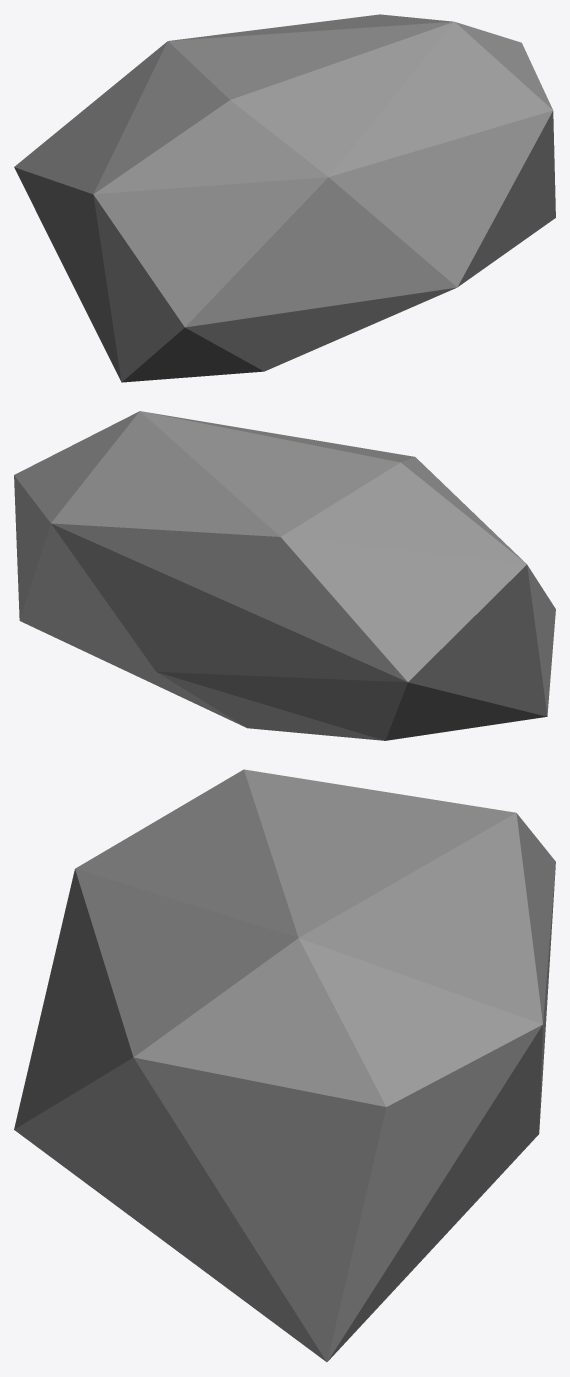
The model's file is [3D] Rock_01.fbx.
3 views of the same model, one above another, from view 1: azimuth 30°, elevation 25°; view 2: azimuth 150°, elevation 25°; view 3: azimuth 270°, elevation 25° (orthographic). The views are drawn at different scales.
Parts seen in each view (by area): view 1: Rock1; view 2: Rock1; view 3: Rock1.
Boxes of the visible parts, left/top/right/bottom form: Rock1: left=14, top=14, right=555, bottom=382; Rock1: left=14, top=411, right=555, bottom=740; Rock1: left=14, top=769, right=555, bottom=1361.
Size of the model in its own units: 181 by 90 by 117.
